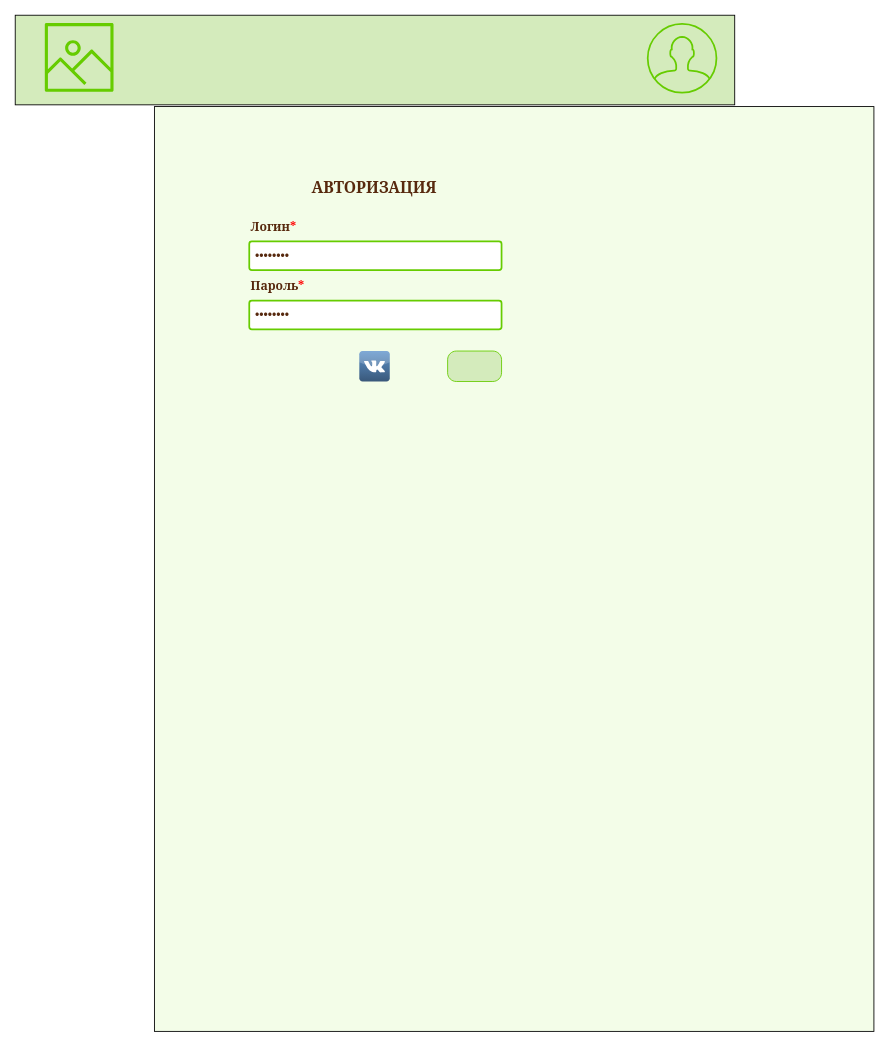
This 889x1047 diagram has some shape labels left out. The box of each missing label's shape, as (x1, y1, x2, y2) in pixels:
ВОЙТИ: (447, 350, 502, 381)
Справочник диетолога: (14, 14, 735, 105)
